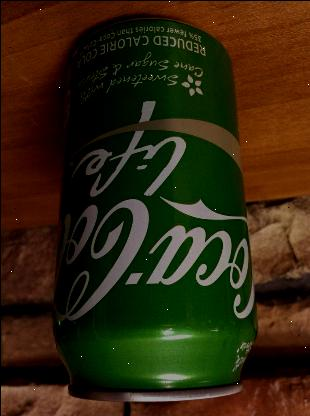Can: (43, 14, 257, 402)
